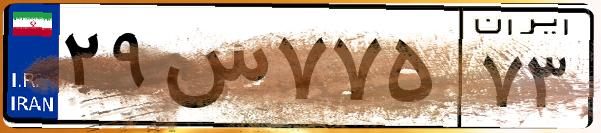2: (57, 26, 110, 100)
3: (525, 38, 570, 115)
5: (385, 28, 445, 110)
7: (270, 28, 330, 110), (330, 28, 385, 110), (475, 38, 525, 113)
9: (110, 28, 158, 98)
س: (158, 20, 270, 120)
